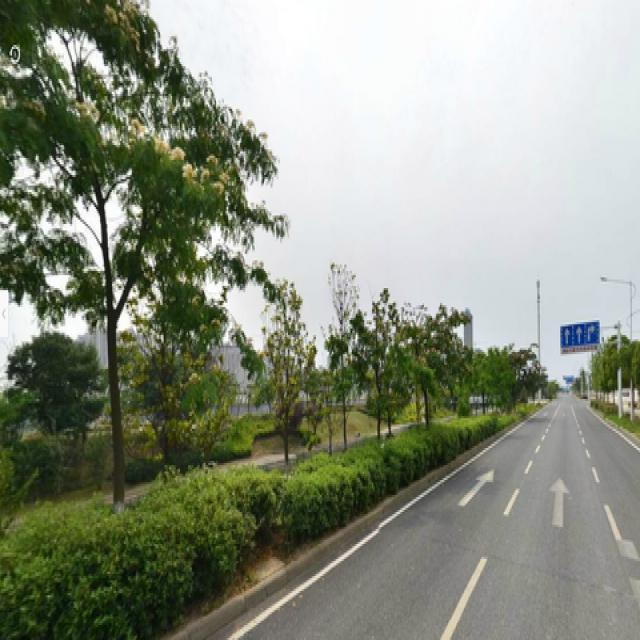albi: (2, 6, 254, 472)
